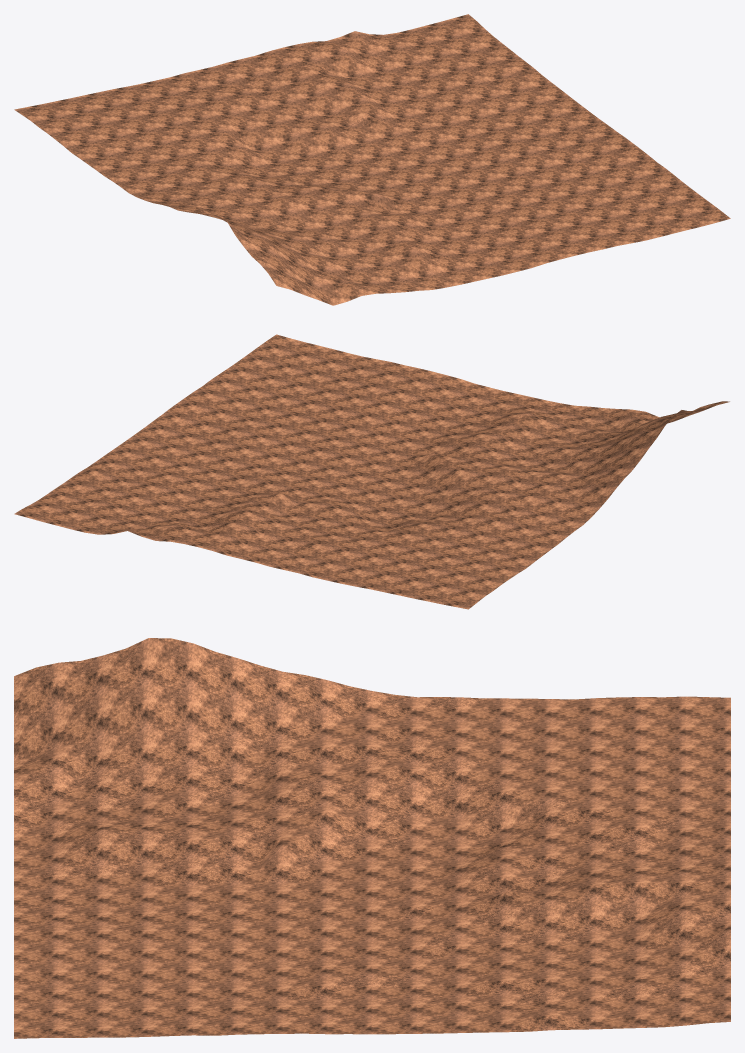
Rendered from terrain_05_14.dae.
The picture shows the model from 3 angles, top to bottom: view 1: azimuth 30°, elevation 25°; view 2: azimuth 150°, elevation 25°; view 3: azimuth 270°, elevation 25°; orthographic projection. The views are drawn at different scales.
Parts seen in each view (by area): view 1: terrain_05_14-node; view 2: terrain_05_14-node; view 3: terrain_05_14-node.
Boxes of the visible parts, x1,y1,x2,y2 form: terrain_05_14-node: (14, 14, 730, 305); terrain_05_14-node: (14, 334, 729, 609); terrain_05_14-node: (14, 638, 730, 1038).
Size of the model in its own units: 128 by 128 by 19.57.
1 material, 1 textured.
